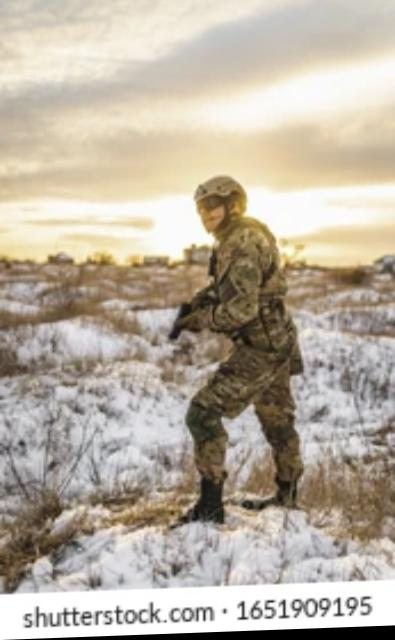other: (187, 174, 298, 522)
